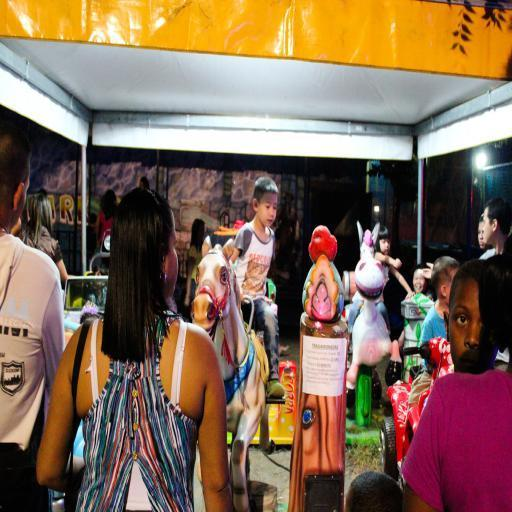horse: (190, 234, 270, 512)
